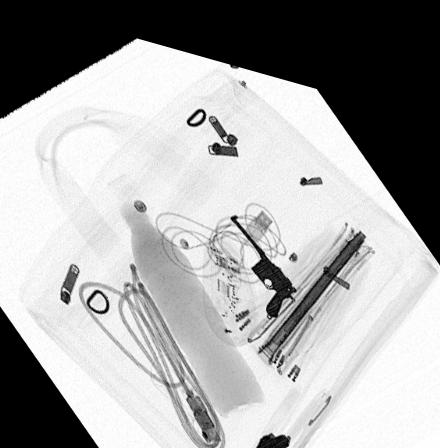Gun: (230, 201, 298, 302), (250, 416, 291, 448)
